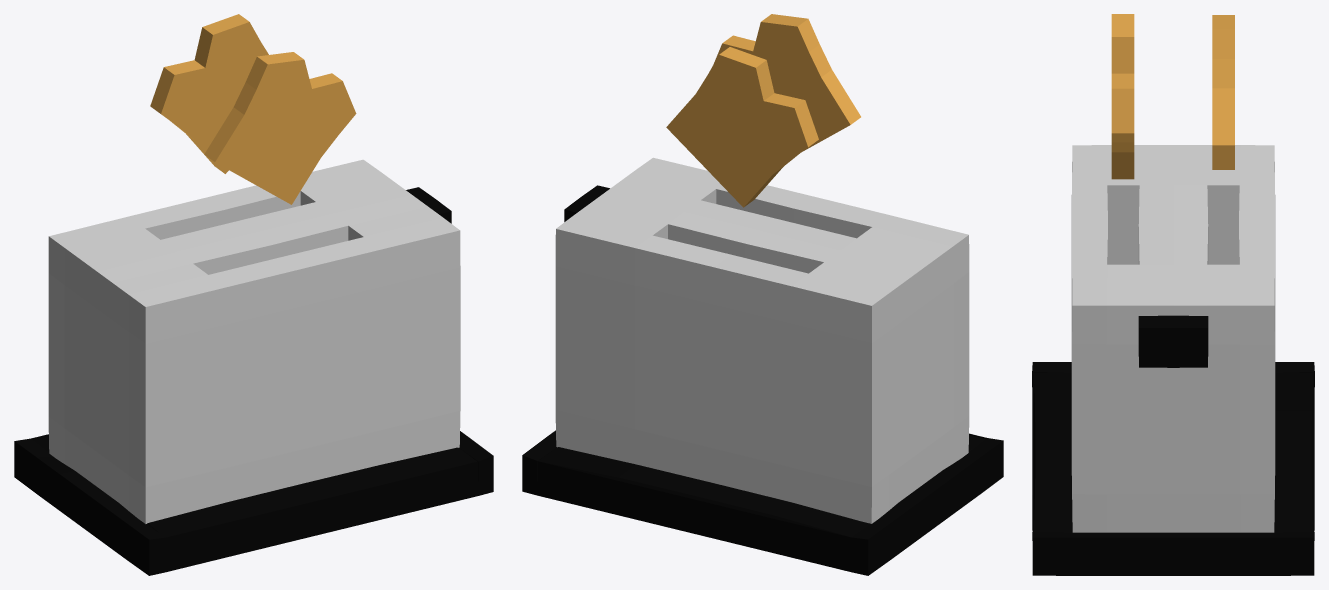
The model's file is ToasterAnimated.fbx.
3 renders of one model, left to right at view 1: azimuth 30°, elevation 25°; view 2: azimuth 150°, elevation 25°; view 3: azimuth 270°, elevation 25°, orthographic. The views are drawn at different scales.
Visible parts, largest first — view 1: Cube, Cube.002, Cube.001; view 2: Cube, Cube.001, Cube.002; view 3: Cube, Cube.002, Cube.003, Cube.001.
Boxes of the visible parts, x1=… form: Cube: x1=14, y1=159, x2=493, y2=575; Cube.002: x1=204, y1=52, x2=356, y2=204; Cube.001: x1=150, y1=14, x2=268, y2=173; Cube: x1=522, y1=157, x2=1003, y2=575; Cube.001: x1=666, y1=47, x2=818, y2=207; Cube.002: x1=714, y1=14, x2=860, y2=151; Cube: x1=1032, y1=145, x2=1314, y2=575; Cube.002: x1=1111, y1=14, x2=1134, y2=179; Cube.003: x1=1138, y1=315, x2=1208, y2=367; Cube.001: x1=1212, y1=15, x2=1234, y2=169.
Bounding box in the file's own units: 226 × 273 × 150.
